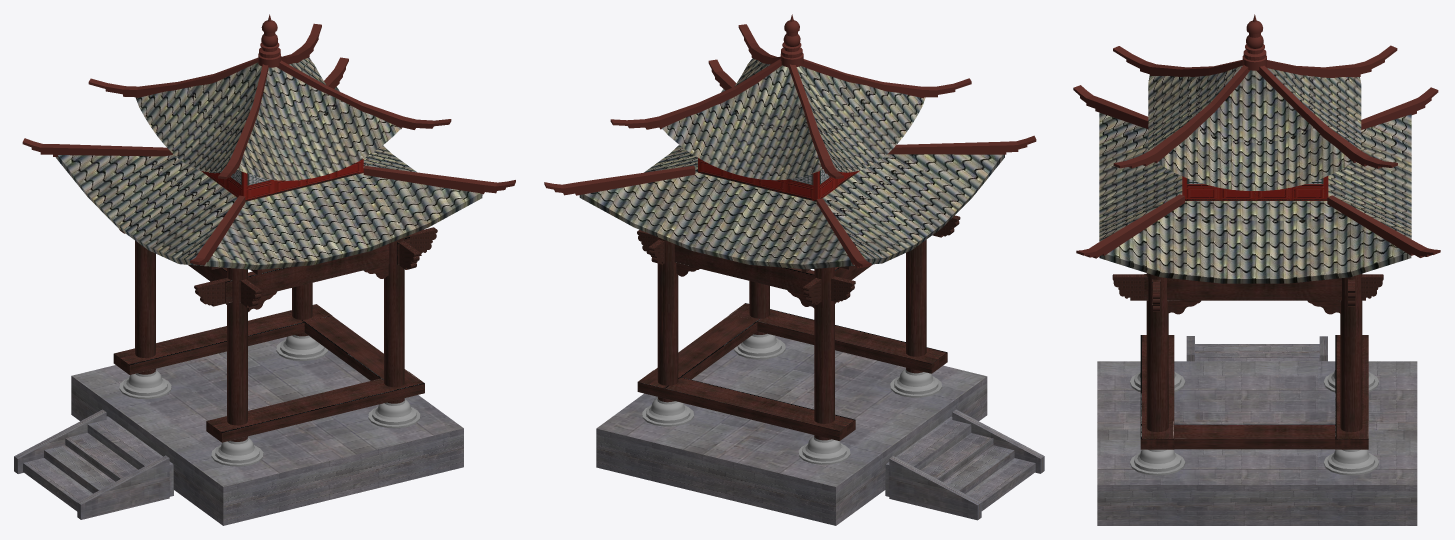
Rendered from LIANGTING.FBX.
3 views of the same model, side by side, from view 1: azimuth 30°, elevation 25°; view 2: azimuth 150°, elevation 25°; view 3: azimuth 270°, elevation 25° (orthographic). The views are drawn at different scales.
Parts seen in each view (by area): view 1: Box008, Box004, Box003, Line014, 组001, Box006, Box005, Cylinder004, Line016, Box007, Cylinder005, Cylinder003 (+13 smaller); view 2: Box008, Box004, Box003, Line014, 组001, Box005, Box006, Cylinder003, Line015, Cylinder002, Box007, Cylinder004 (+13 smaller); view 3: Box008, Box004, Box003, 组001, Box007, Cylinder002, Cylinder005, Line014, Box006, Box005, Line005, Line002 (+9 smaller).
Boxes of the visible parts, x1,y1,x2,y2 form: Box008: (71,337,463,525); Box004: (55,86,482,269); Box003: (135,57,401,180); Line014: (23,416,173,511); 组001: (119,227,437,311); Box006: (206,372,424,442); Box005: (113,304,331,374); Cylinder004: (227,268,247,441); Line016: (77,455,169,519); Box007: (289,311,420,384); Cylinder005: (384,237,404,403); Cylinder003: (135,240,155,374); Box008: (596,335,987,525); Box004: (579,89,1004,269); Box003: (662,58,925,180); Line014: (885,416,1035,510); 组001: (637,215,960,308); Box005: (637,370,855,440); Box006: (729,303,947,373); Cylinder003: (814,267,834,440); Line015: (889,456,981,520); Cylinder002: (657,237,678,402); Box007: (638,306,760,388); Cylinder004: (906,239,926,373); Box008: (1097,361,1417,525); Box004: (1099,112,1411,283); Box003: (1148,65,1361,190); 组001: (1112,274,1383,314); Box007: (1174,424,1335,449); Cylinder002: (1340,274,1362,432); Cylinder005: (1146,273,1168,432); Line014: (1195,344,1319,361); Box006: (1140,335,1174,449); Box005: (1335,335,1368,449); Line005: (1113,65,1249,168); Line002: (1256,65,1397,168).
Size of the model in its own units: 344 by 365 by 269.
7 materials, 4 textured.
